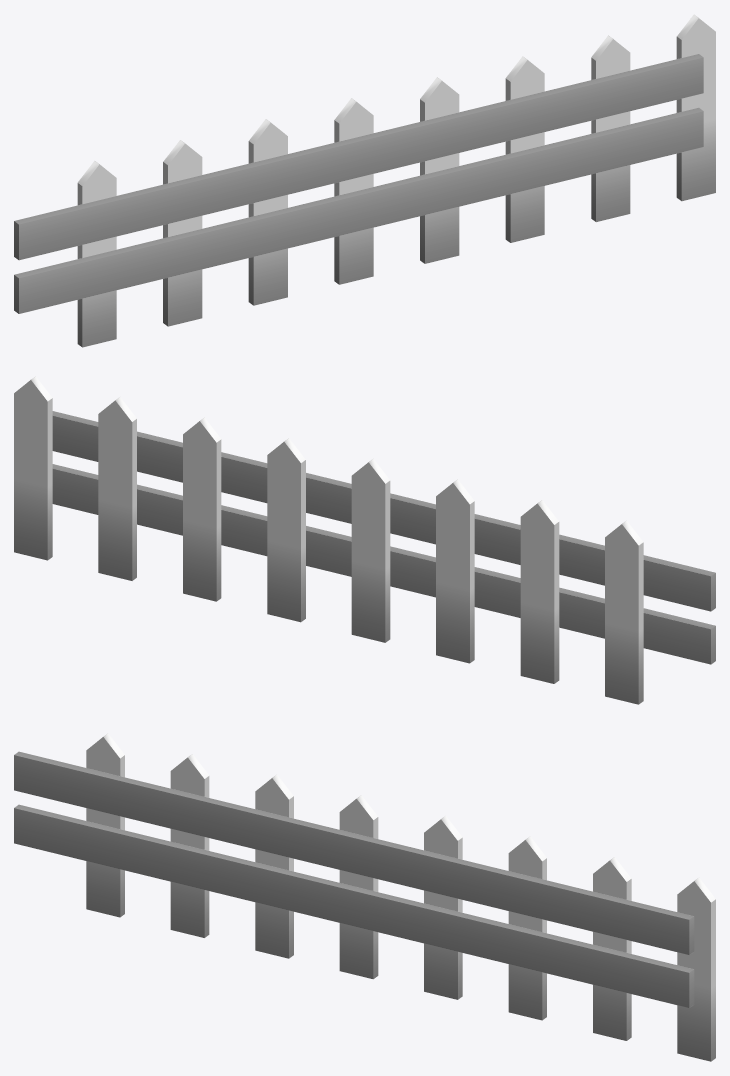
Rendered from fence.fbx.
The picture shows the model from 3 angles, top to bottom: view 1: azimuth 30°, elevation 25°; view 2: azimuth 150°, elevation 25°; view 3: azimuth 330°, elevation 25°; orthographic projection.
Visible parts, largest first — view 1: fence_beam, fence_beam__1_, fence_plank, fence_plank__4_, fence_plank__6_, fence_plank__2_, fence_plank__5_, fence_plank__3_, fence_plank__7_, fence_plank__1_; view 2: fence_beam, fence_beam__1_, fence_plank__4_, fence_plank__6_, fence_plank__2_, fence_plank__5_, fence_plank__7_, fence_plank__1_, fence_plank, fence_plank__3_; view 3: fence_beam__1_, fence_beam, fence_plank, fence_plank__6_, fence_plank__4_, fence_plank__5_, fence_plank__3_, fence_plank__2_, fence_plank__7_, fence_plank__1_.
Boxes of the visible parts, x1,y1,x2,y2 form: fence_beam: (14, 54, 703, 260); fence_beam__1_: (14, 107, 703, 313); fence_plank: (676, 14, 715, 201); fence_plank__4_: (334, 98, 373, 284); fence_plank__6_: (163, 140, 202, 326); fence_plank__2_: (505, 56, 544, 242); fence_plank__5_: (248, 119, 287, 305); fence_plank__3_: (420, 77, 459, 263); fence_plank__7_: (77, 161, 116, 347); fence_plank__1_: (591, 35, 630, 222); fence_beam: (52, 411, 715, 611); fence_beam__1_: (52, 464, 715, 664); fence_plank__4_: (351, 458, 390, 642); fence_plank__6_: (520, 500, 559, 683); fence_plank__2_: (183, 417, 221, 601); fence_plank__5_: (436, 479, 474, 663); fence_plank__7_: (605, 520, 643, 704); fence_plank__1_: (98, 397, 136, 580); fence_plank: (14, 376, 52, 560); fence_plank__3_: (267, 438, 305, 622); fence_beam__1_: (14, 804, 694, 1007); fence_beam: (14, 751, 694, 954); fence_plank: (677, 877, 715, 1061); fence_plank__6_: (170, 754, 209, 937); fence_plank__4_: (339, 795, 378, 979); fence_plank__5_: (255, 774, 293, 958); fence_plank__3_: (424, 816, 462, 999); fence_plank__2_: (508, 836, 546, 1020); fence_plank__7_: (86, 733, 124, 917); fence_plank__1_: (593, 857, 631, 1040).
Size of the model in its own units: 410 by 100 by 10.
